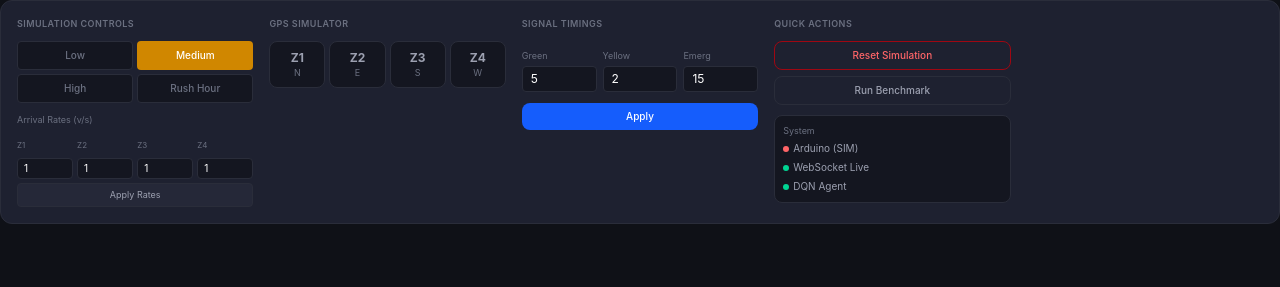
Test: ControlBar › blocks public visitors from changing traffic patterns
The image size is (1280, 287).
Click the button "Low": point(75, 55) [17,40,133,70]
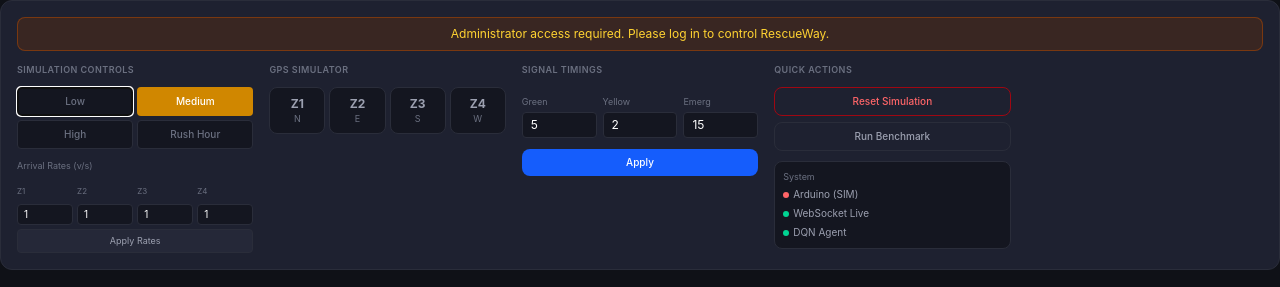
Check: the text "Administrator access required. Please log in to control RescueWay." is shown, box [17,17,1263,51]
